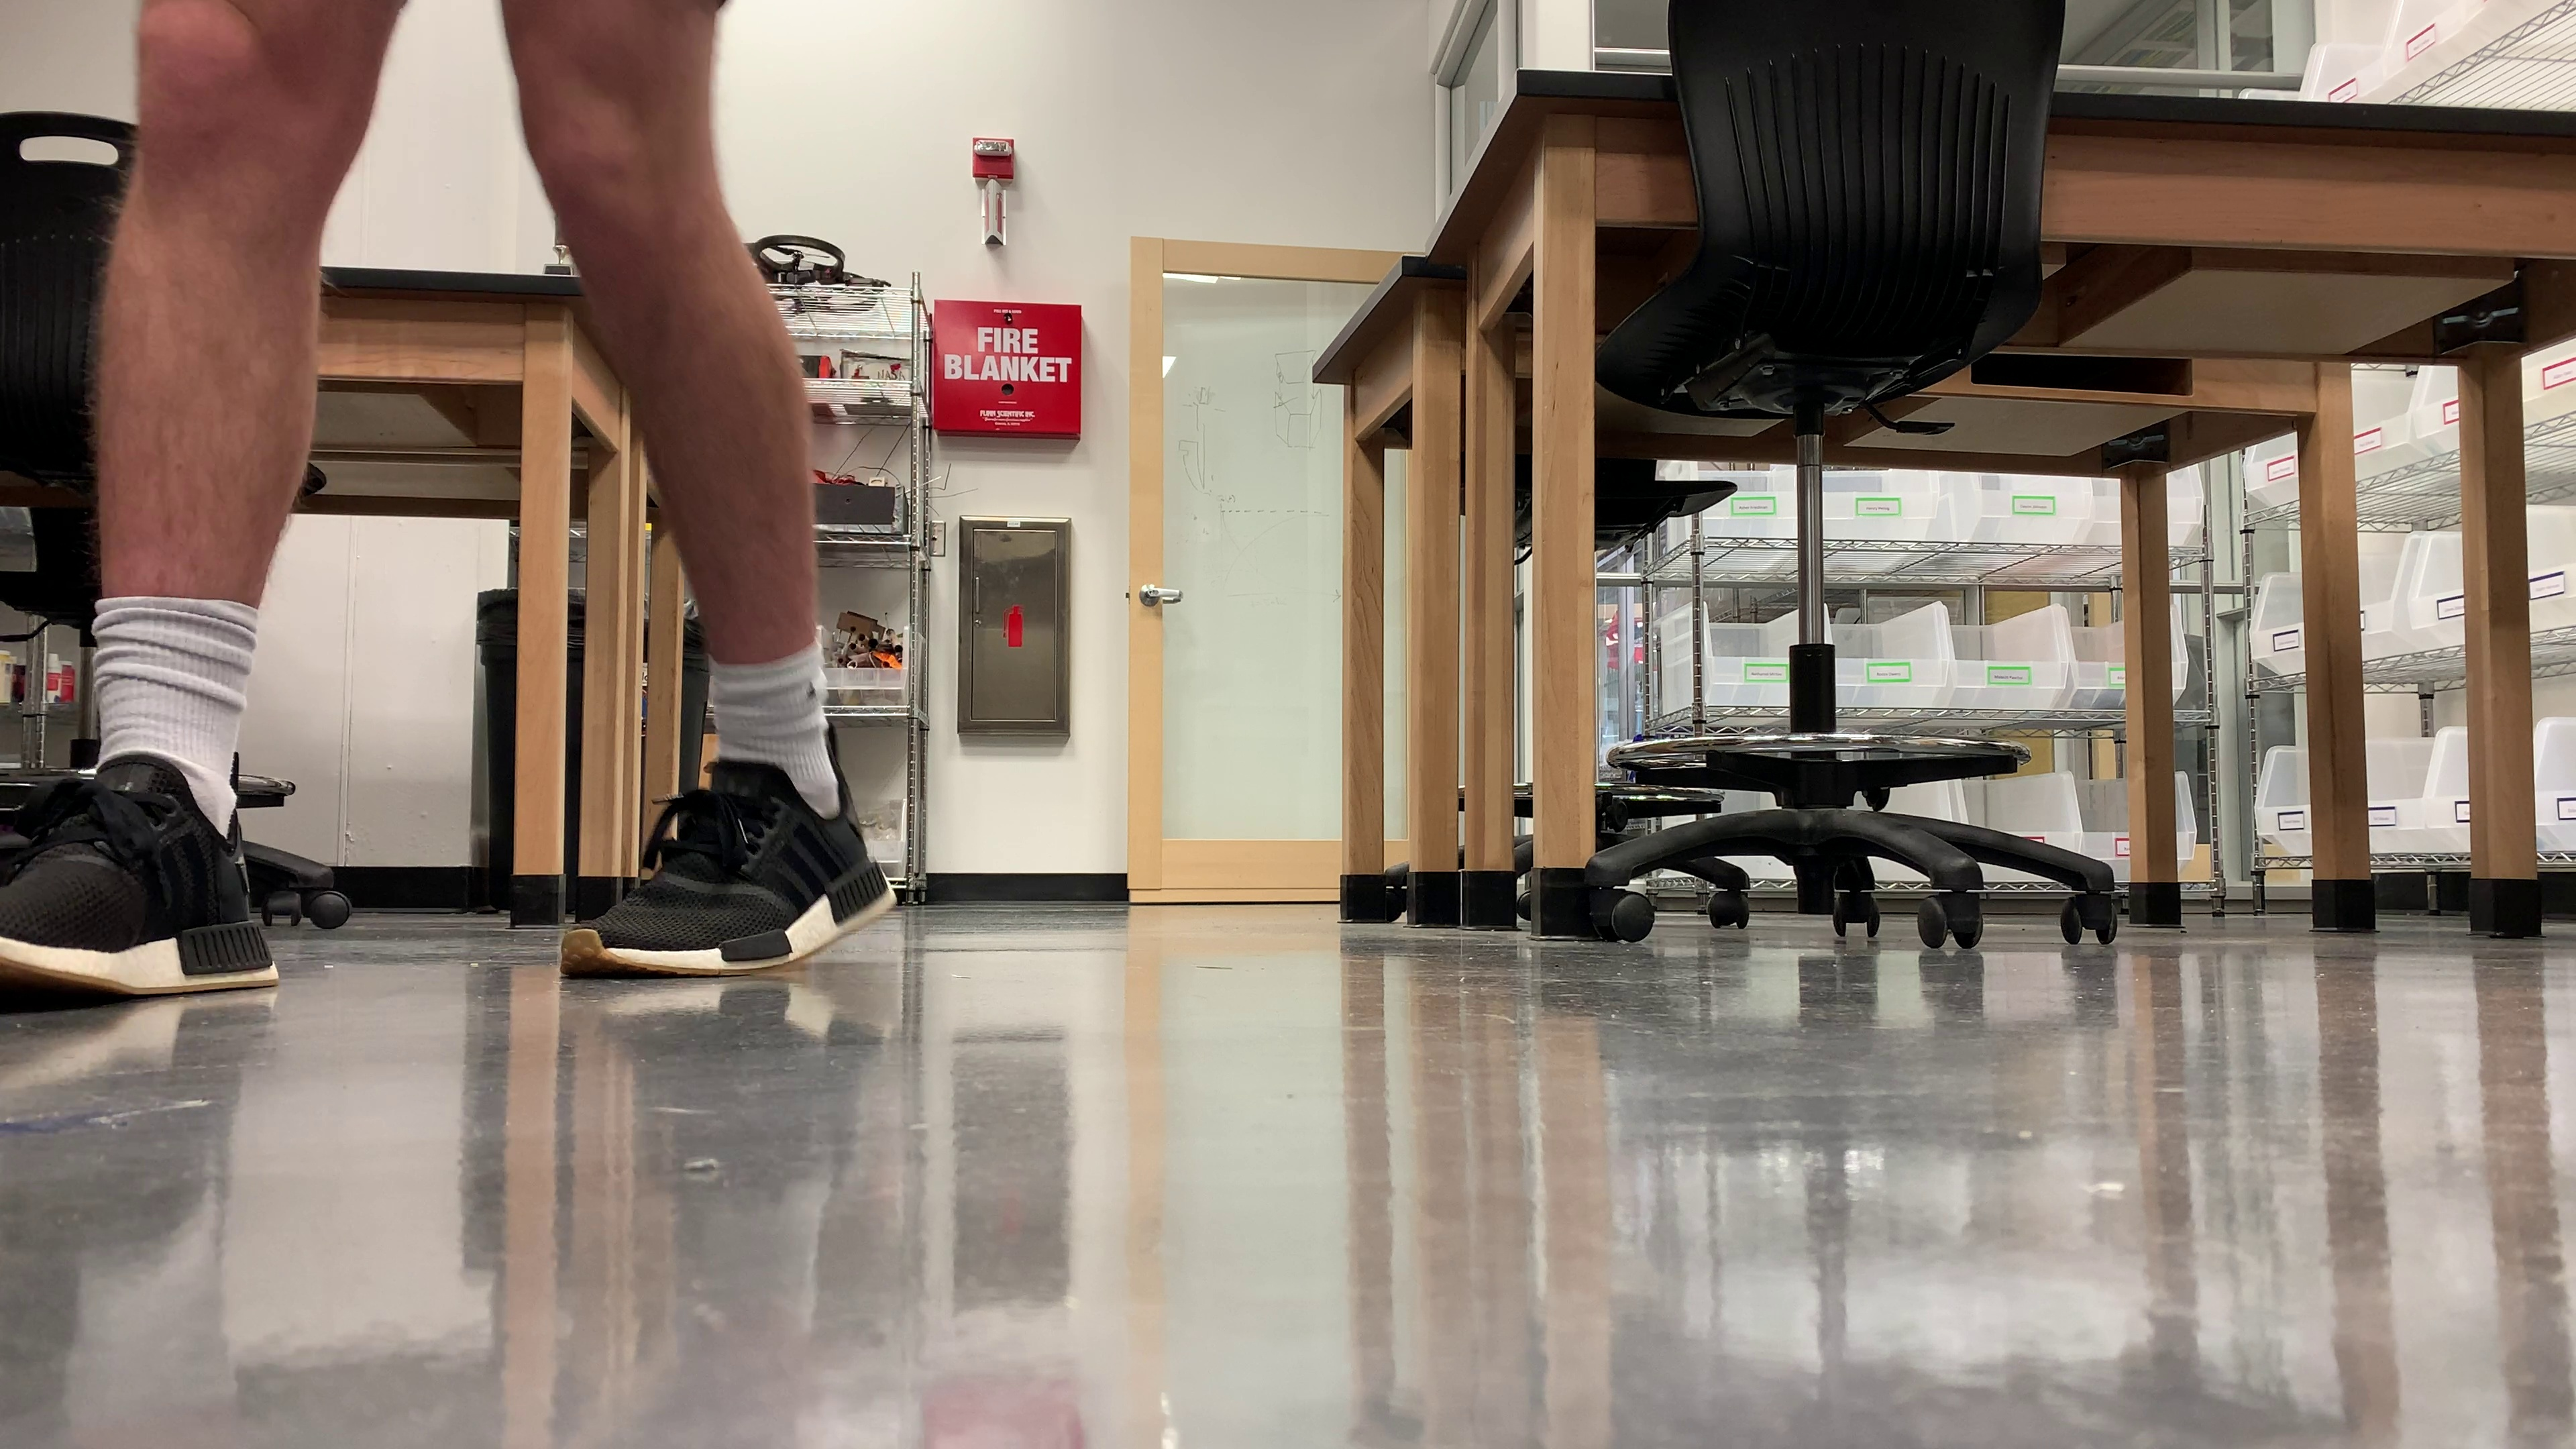shoe: (563, 727, 895, 973), (0, 757, 280, 998)
